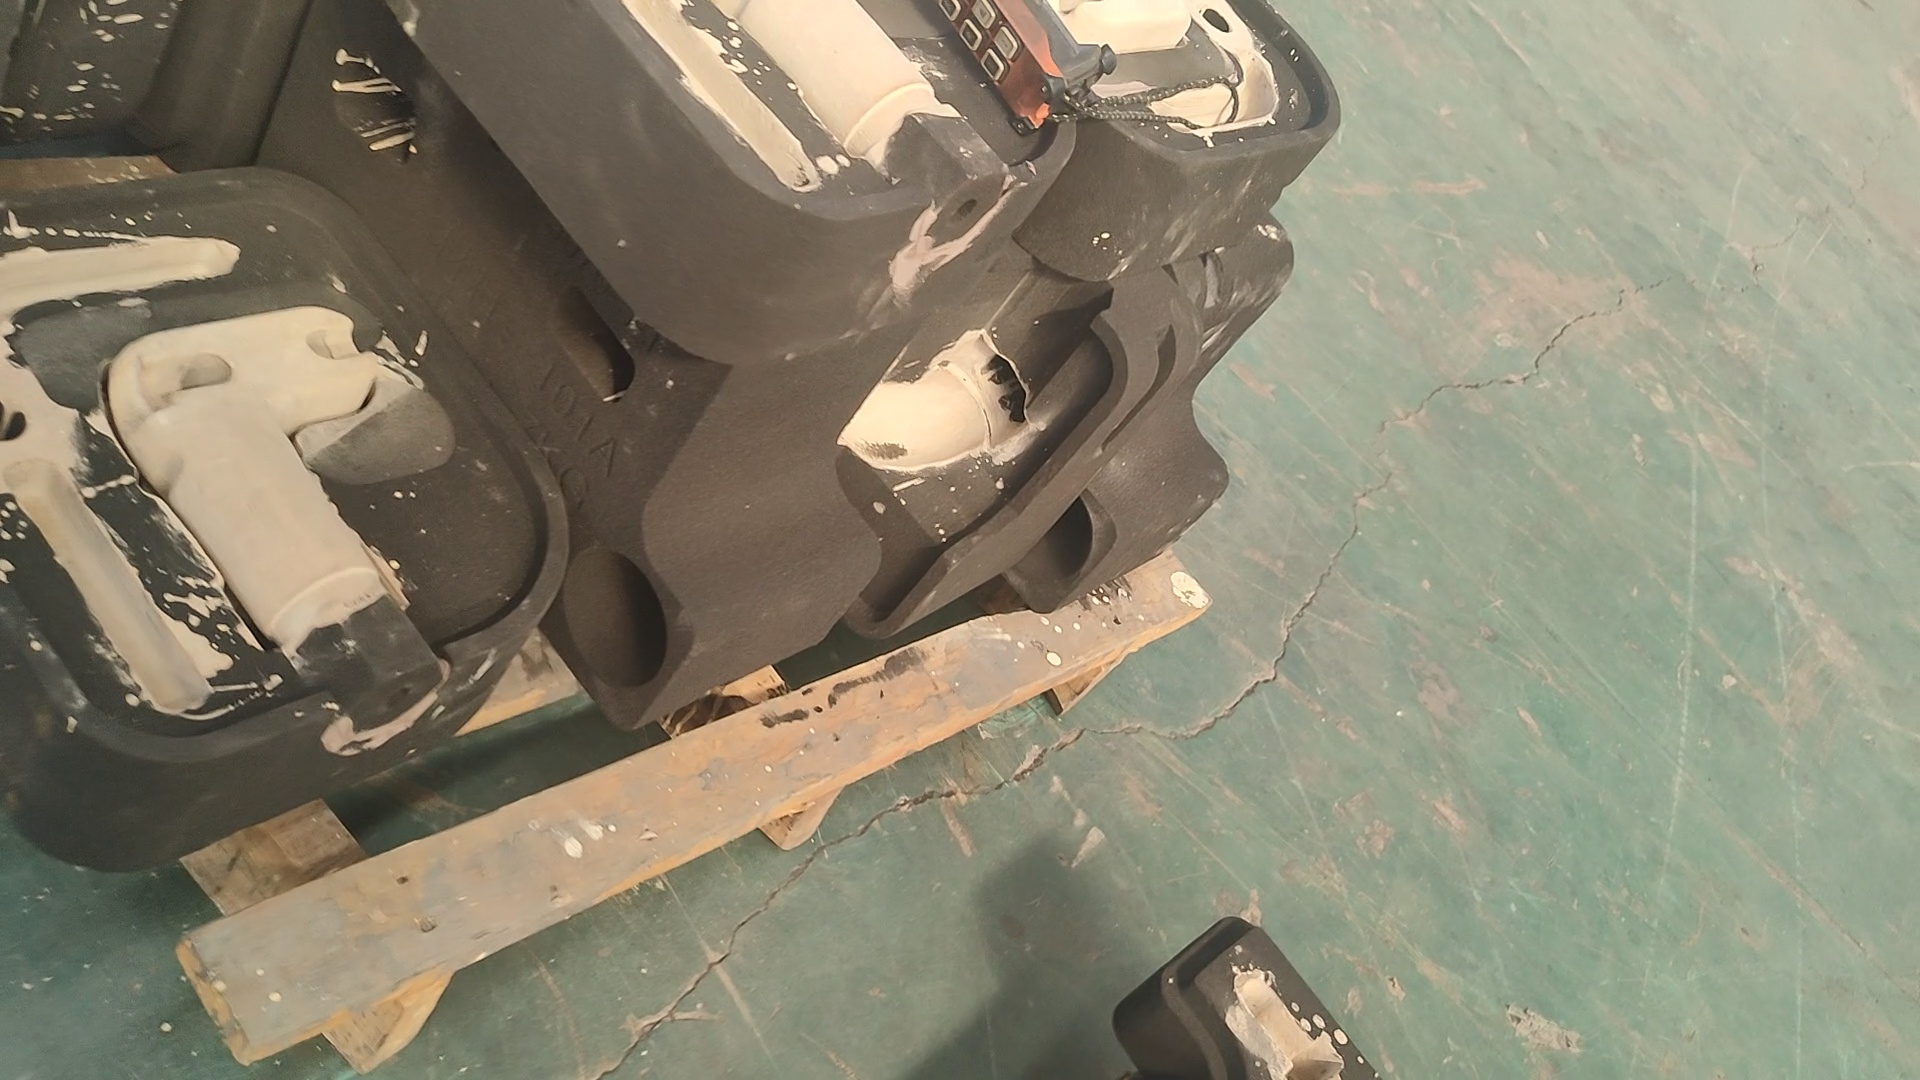pouring hole: (563, 546, 667, 686), (992, 483, 1093, 585)
